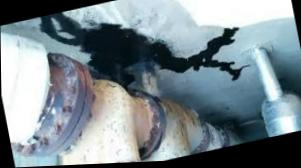leak: (37, 12, 250, 90)
